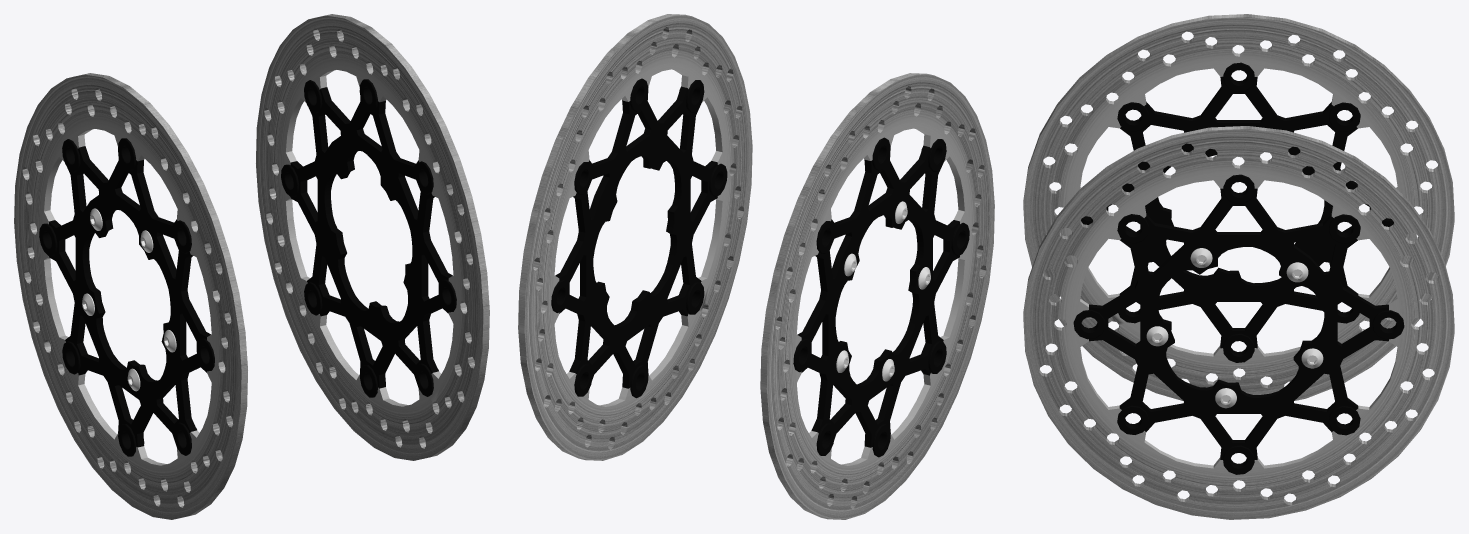
Rendered from FrontRotors_STOCK_BLK_GLSS.glb.
3 renders of one model, left to right at view 1: azimuth 30°, elevation 25°; view 2: azimuth 150°, elevation 25°; view 3: azimuth 270°, elevation 25°, orthographic. The views are drawn at different scales.
Parts seen in each view (by area): view 1: FrontRotors_STOCK_BLK_GLSS; view 2: FrontRotors_STOCK_BLK_GLSS; view 3: FrontRotors_STOCK_BLK_GLSS.
Boxes of the visible parts, left/top/right/bottom form: FrontRotors_STOCK_BLK_GLSS: left=14, top=14, right=489, bottom=519; FrontRotors_STOCK_BLK_GLSS: left=518, top=14, right=994, bottom=519; FrontRotors_STOCK_BLK_GLSS: left=1023, top=14, right=1454, bottom=519.
Bounding box in the file's own units: 0.2009 × 0.3087 × 0.3087.
Materials: 3 (1 with a texture image).
